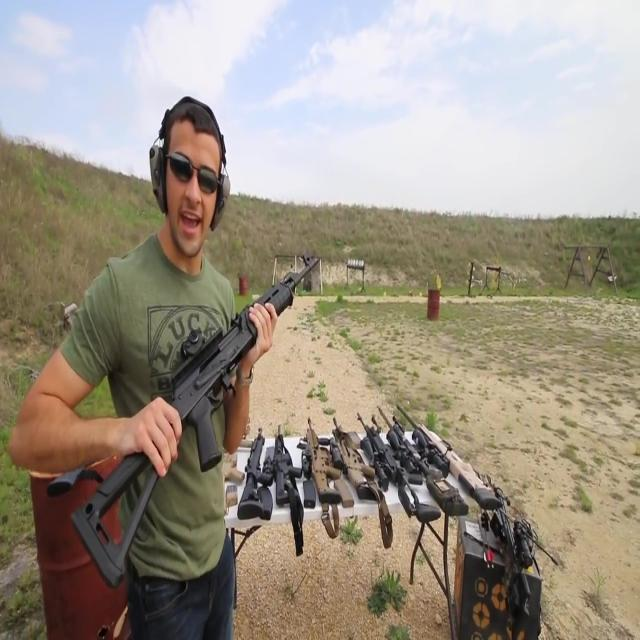Weapon: (39, 225, 329, 545), (247, 382, 554, 624)
